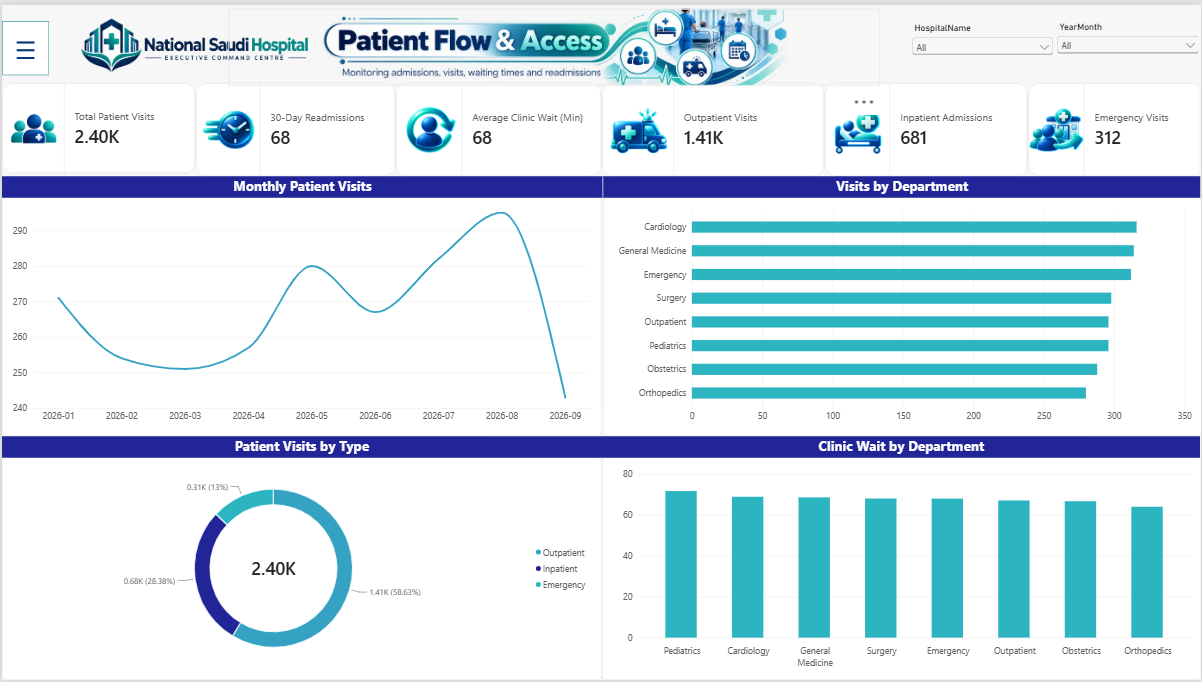

This screenshot's page, from the dashboard's own definition file:
{"tool":"powerbi","page":{"name":"Patient Flow & Access","canvas":[1920,1080],"ordinal":1},"visuals":[{"type":"cardVisual","fields":{"Data":["Claims.Average Clinic Wait (Min)"]},"box":[629.8,123.1,329.4,150.2],"z":0},{"type":"cardVisual","fields":{"Data":["tblEncounters.Outpatient Visits"]},"box":[959.1,123.1,356.5,150.2],"z":1000},{"type":"cardVisual","fields":{"Data":["tblEncounters.Emergency Visits"]},"box":[1641.4,123.1,278.7,150.2],"z":2000},{"type":"cardVisual","fields":{"Data":["tblEncounters.30-Day Readmissions"]},"box":[309.5,123.1,320.3,150.2],"z":3000},{"type":"cardVisual","fields":{"Data":["tblEncounters.Inpatient Admissions"]},"box":[1315.6,123.1,325.7,150.2],"z":4000},{"type":"cardVisual","title":"Monthly Patient Visits","fields":{"Data":["Claims.Total Patient Visits"]},"box":[0,123.1,309.5,146.6],"z":5000},{"type":"image","box":[96.1,0,423.5,128.5],"z":6000},{"type":"slicer","fields":{"Values":["tblHospitals.HospitalName"]},"box":[1451.3,29,233.4,106.8],"z":7000},{"type":"slicer","fields":{"Values":["DimDate.YearMonth"]},"box":[1684.7,25.3,235.3,86.9],"z":8000},{"type":"image","box":[361,5.2,1042.4,123.1],"z":9000},{"type":"lineChart","fields":{"Category":["DimDate.YearMonth"],"Y":["Claims.Total Patient Visits"]},"box":[0,308.4,959.1,381.8],"z":10000},{"type":"clusteredBarChart","fields":{"Category":["tblDepartments.DepartmentName"],"Y":["Claims.Total Patient Visits"]},"box":[961.1,308.4,959.1,381.8],"z":11000},{"type":"donutChart","fields":{"Category":["tblEncounters.VisitType"],"Y":["Claims.Total Patient Visits"]},"box":[0,724,960,356],"z":12000},{"type":"clusteredColumnChart","fields":{"Category":["tblDepartments.DepartmentName"],"Y":["Claims.Average Clinic Wait (Min)"]},"box":[960,724,960,356],"z":13000},{"type":"textbox","box":[0,273.7,961.1,34.7],"z":14000},{"type":"textbox","box":[961.1,273.7,956.8,34.7],"z":15000},{"type":"textbox","box":[0,690,960,34],"z":16000},{"type":"textbox","box":[100,100,300,300],"z":17000},{"type":"textbox","box":[960,690,958,34],"z":18000},{"type":"shape","box":[0,26.6,75.5,86.5],"z":20000}]}

Visuals, with their boxes in screenshot pixels (x1, y1, x2, y2), scaled from the page's 1920x1080 canvas onto the 1202x682 screenshot:
cardVisual - Claims.Average Clinic Wait (Min): {"left": 394, "top": 78, "right": 600, "bottom": 173}
cardVisual - tblEncounters.Outpatient Visits: {"left": 600, "top": 78, "right": 824, "bottom": 173}
cardVisual - tblEncounters.Emergency Visits: {"left": 1028, "top": 78, "right": 1201, "bottom": 173}
cardVisual - tblEncounters.30-Day Readmissions: {"left": 194, "top": 78, "right": 394, "bottom": 173}
cardVisual - tblEncounters.Inpatient Admissions: {"left": 824, "top": 78, "right": 1028, "bottom": 173}
"Monthly Patient Visits" cardVisual: {"left": 0, "top": 78, "right": 194, "bottom": 170}
image: {"left": 60, "top": 0, "right": 325, "bottom": 81}
slicer - tblHospitals.HospitalName: {"left": 909, "top": 18, "right": 1055, "bottom": 86}
slicer - DimDate.YearMonth: {"left": 1055, "top": 16, "right": 1201, "bottom": 71}
image: {"left": 226, "top": 3, "right": 879, "bottom": 81}
lineChart - DimDate.YearMonth x Claims.Total Patient Visits: {"left": 0, "top": 195, "right": 600, "bottom": 436}
clusteredBarChart - tblDepartments.DepartmentName x Claims.Total Patient Visits: {"left": 602, "top": 195, "right": 1201, "bottom": 436}
donutChart - tblEncounters.VisitType x Claims.Total Patient Visits: {"left": 0, "top": 457, "right": 601, "bottom": 681}
clusteredColumnChart - tblDepartments.DepartmentName x Claims.Average Clinic Wait (Min): {"left": 601, "top": 457, "right": 1201, "bottom": 681}
textbox: {"left": 0, "top": 173, "right": 602, "bottom": 195}
textbox: {"left": 602, "top": 173, "right": 1201, "bottom": 195}
textbox: {"left": 0, "top": 436, "right": 601, "bottom": 457}
textbox: {"left": 63, "top": 63, "right": 250, "bottom": 253}
textbox: {"left": 601, "top": 436, "right": 1201, "bottom": 457}
shape: {"left": 0, "top": 17, "right": 47, "bottom": 71}
